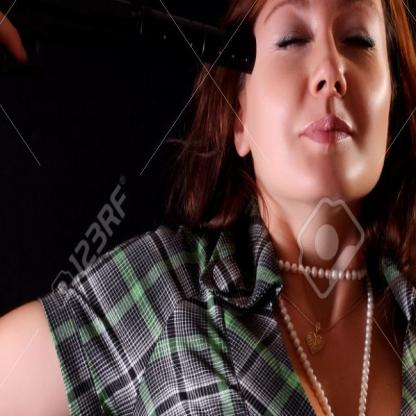gun: (0, 0, 258, 178)
